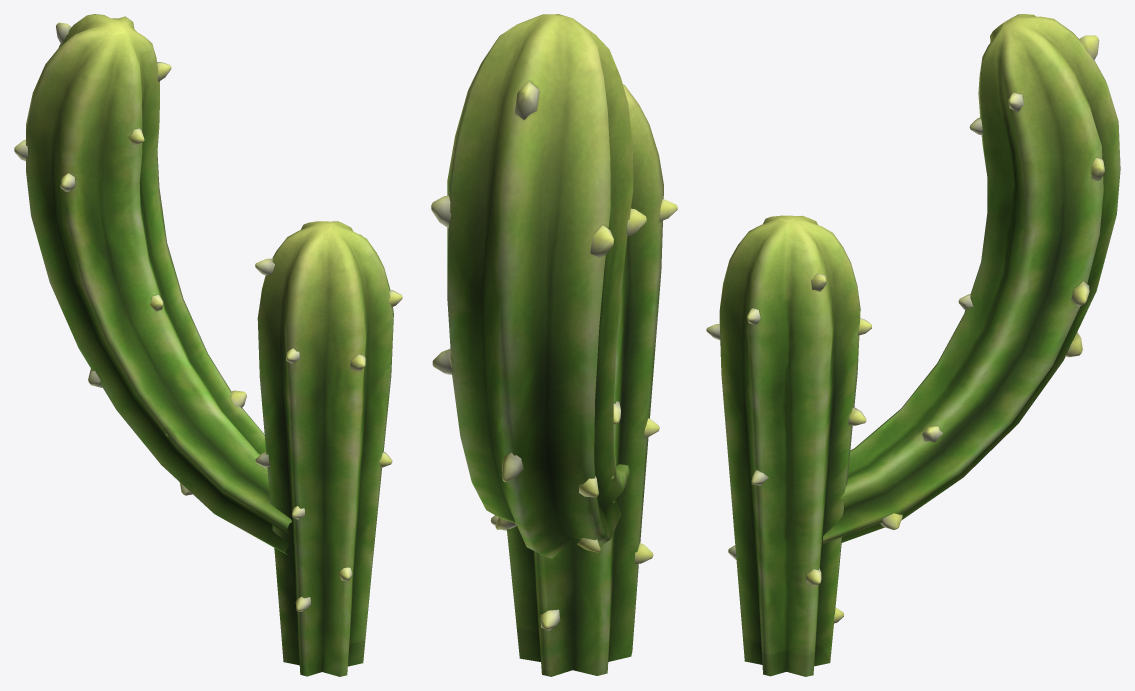
Rendered from cactus.glb.
The picture shows the model from 3 angles, left to right: view 1: azimuth 30°, elevation 25°; view 2: azimuth 150°, elevation 25°; view 3: azimuth 270°, elevation 25°; orthographic projection. The views are drawn at different scales.
Visible parts, largest first — view 1: node_id30; view 2: node_id30; view 3: node_id30.
Part boxes in pixels (x1,y1,x2,y2): node_id30: (14, 14, 402, 676); node_id30: (431, 14, 677, 676); node_id30: (706, 14, 1120, 676).
Bounding box in the file's own units: 0.211 × 0.512 × 0.3241.
Materials: 1 (1 with a texture image).
